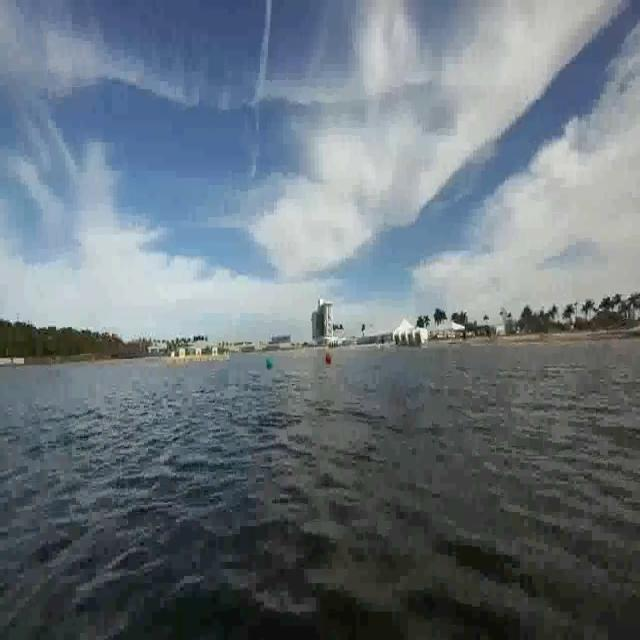green-buoy: (267, 356, 275, 369)
red-buoy: (327, 353, 334, 366)
